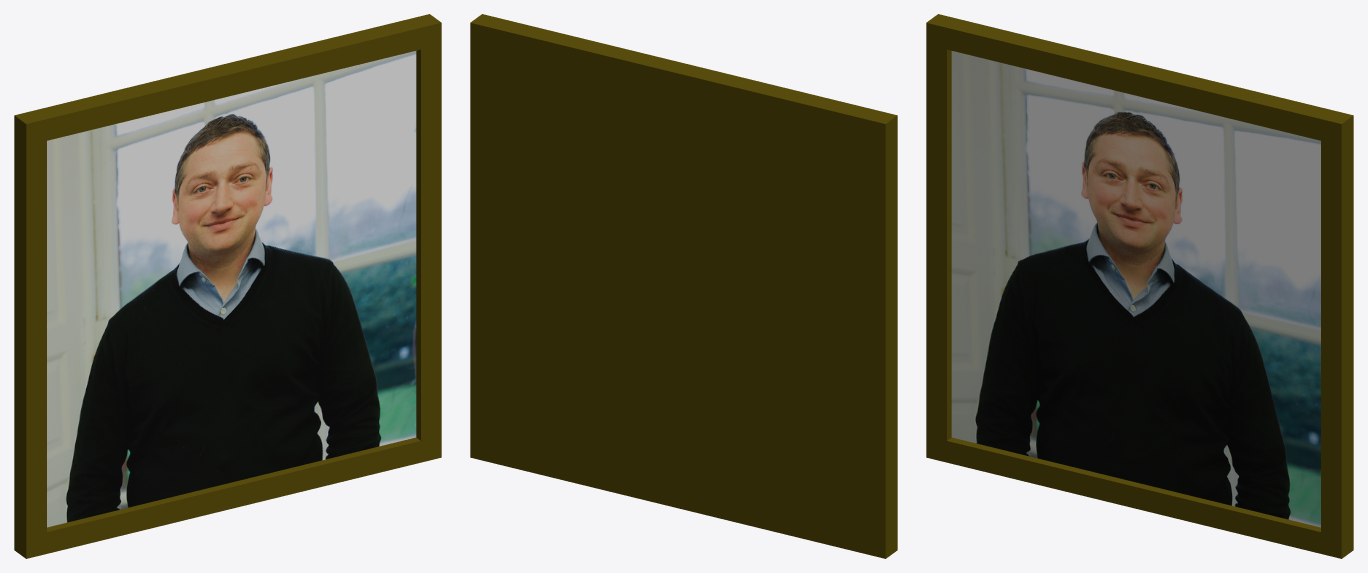
Rendered from Painting_IBM-VP.fbx.
The picture shows the model from 3 angles, left to right: view 1: azimuth 30°, elevation 25°; view 2: azimuth 150°, elevation 25°; view 3: azimuth 330°, elevation 25°; orthographic projection.
Parts seen in each view (by area): view 1: Painting; view 2: Painting; view 3: Painting.
Part boxes in pixels (<box>): Painting: <box>14,14,441,558</box>; Painting: <box>470,14,897,558</box>; Painting: <box>926,14,1353,558</box>.
Size of the model in its own units: 200 by 200 by 10.
